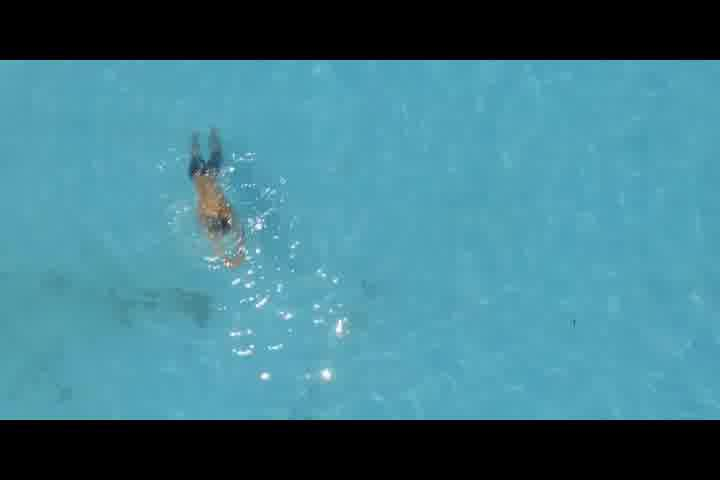human: (187, 126, 250, 271)
